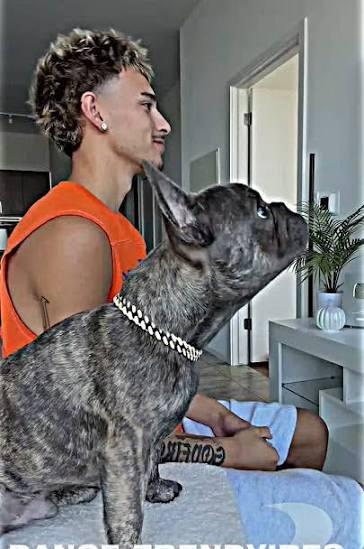adult_dog: (1, 159, 310, 549)
non-dog: (0, 24, 331, 473)
